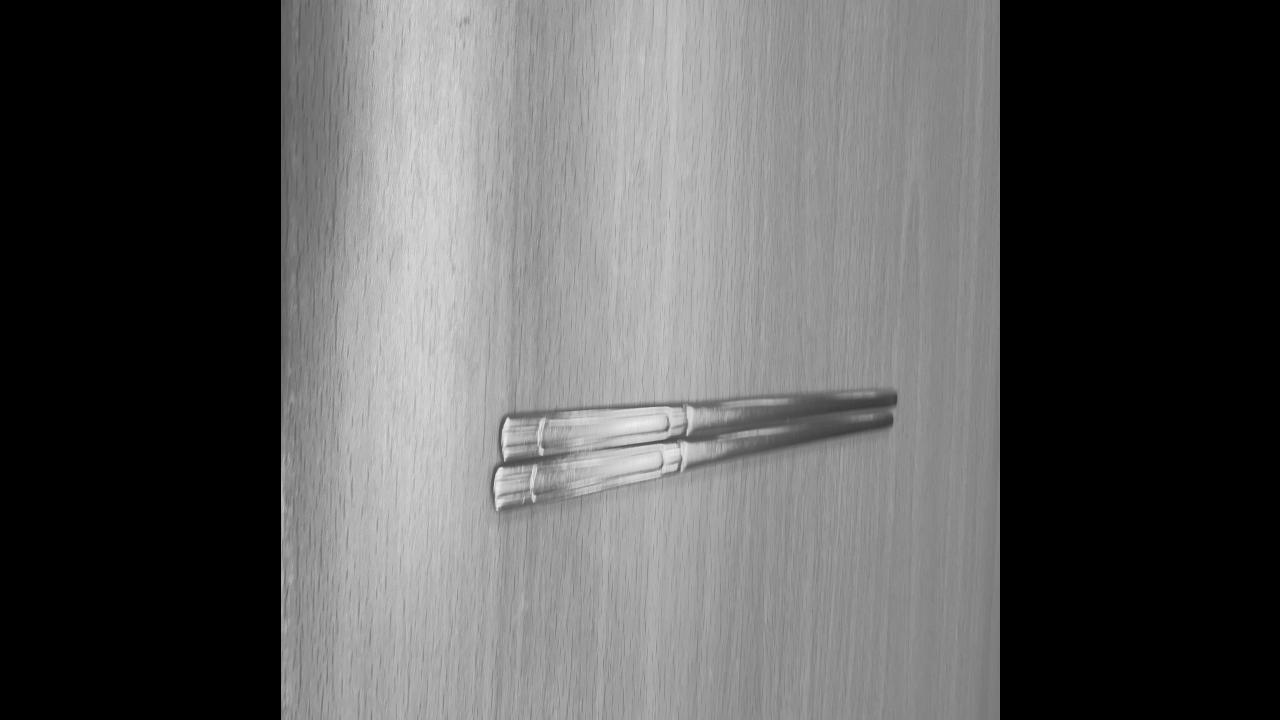chopstick: (494, 390, 896, 506)
